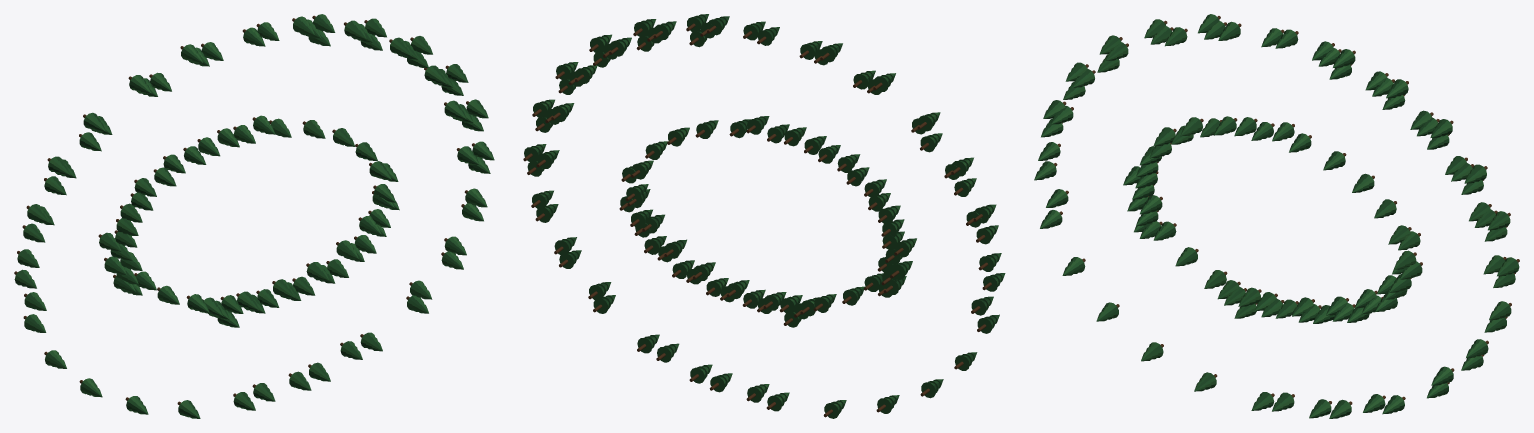
The model's file is forest_clusters.obj.
The picture shows the model from 3 angles, left to right: view 1: azimuth 30°, elevation 25°; view 2: azimuth 150°, elevation 25°; view 3: azimuth 330°, elevation 25°; orthographic projection.
Parts seen in each view (by area): view 1: forest_clusters; view 2: forest_clusters; view 3: forest_clusters.
Part boxes in pixels (left/top/right/bottom): forest_clusters: left=14, top=14, right=494, bottom=418; forest_clusters: left=523, top=14, right=1005, bottom=418; forest_clusters: left=1034, top=14, right=1519, bottom=418.
Size of the model in its own units: 74.04 by 56.84 by 7.16.
